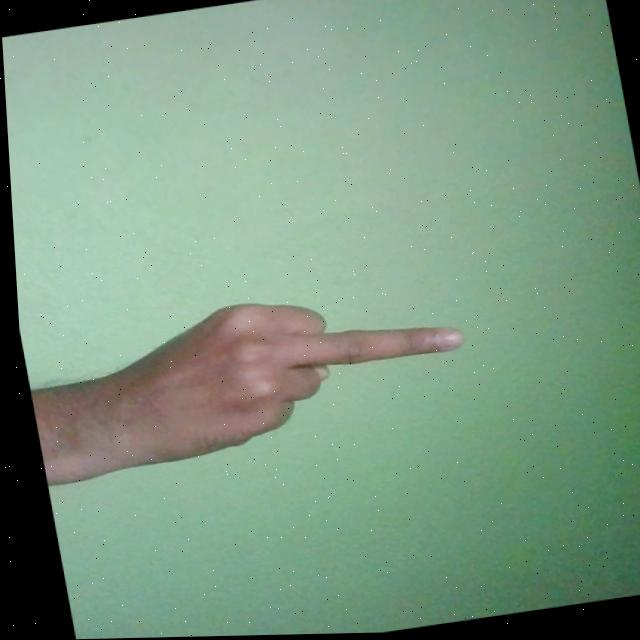Middle Finger: (49, 273, 475, 474)
